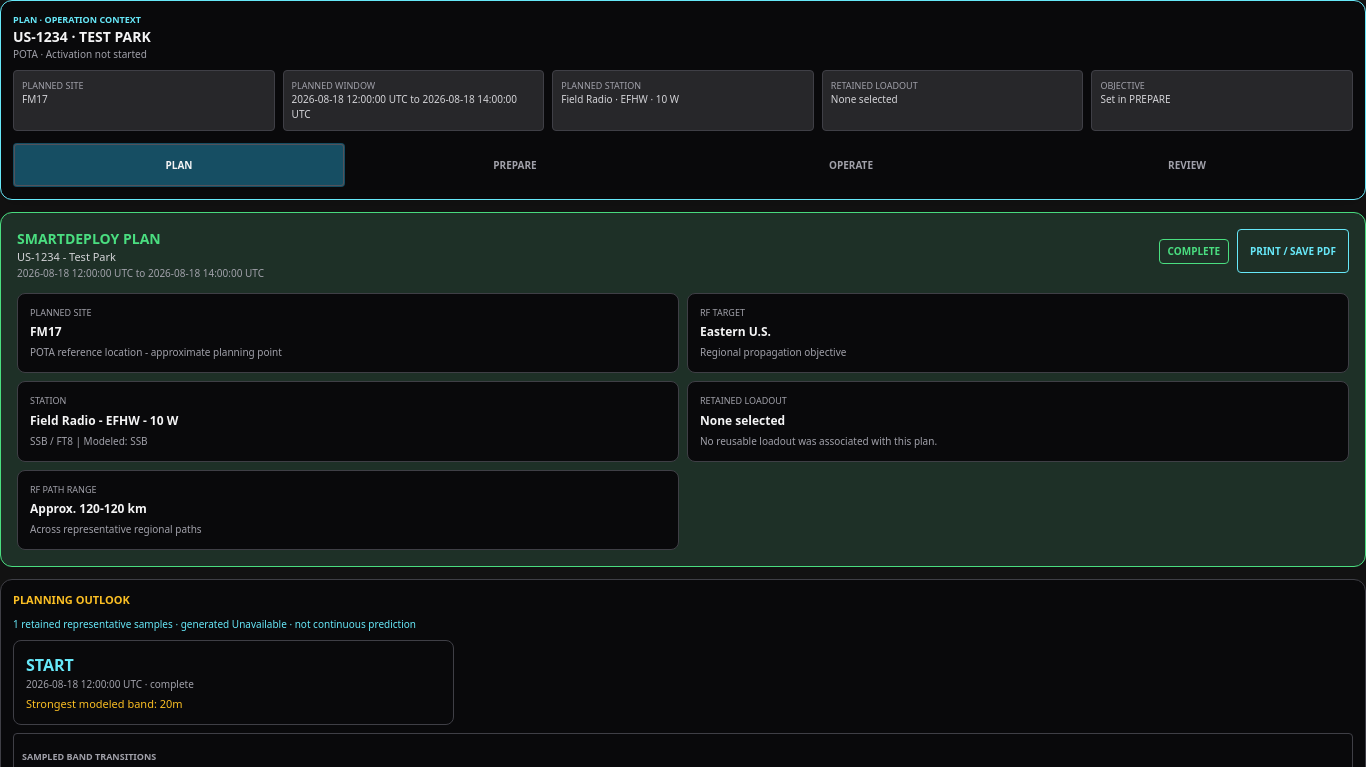
Scenario: SmartDeploy brief rendering › starts the Activation before navigating from PREPARE to OPERATE
Step 1. Click the button "prepare" → [515, 165], box x1=349 y1=143 x2=681 y2=187
(page scrolled)
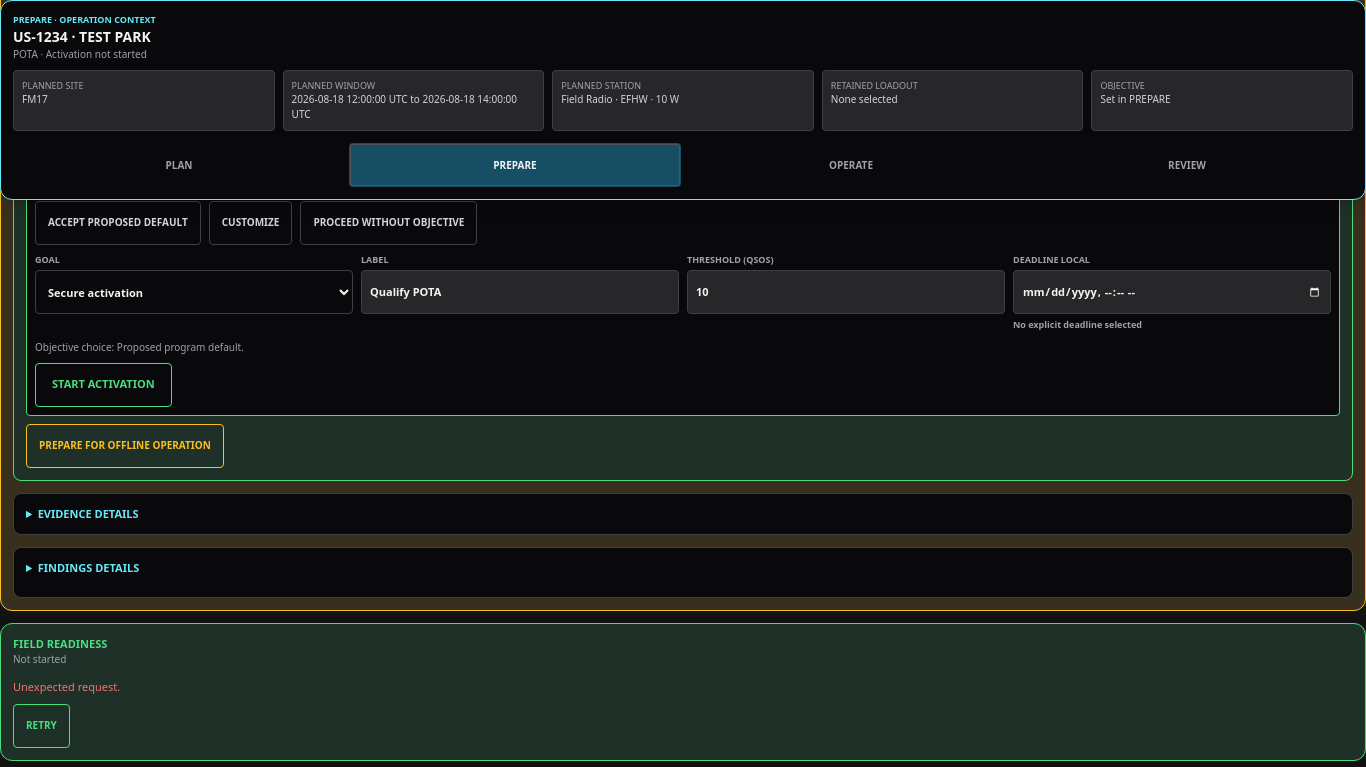
Check: the button "START ACTIVATION" is shown
Step 2. Click the button "START ACTIVATION" → [103, 384], box x1=35 y1=362 x2=172 y2=406
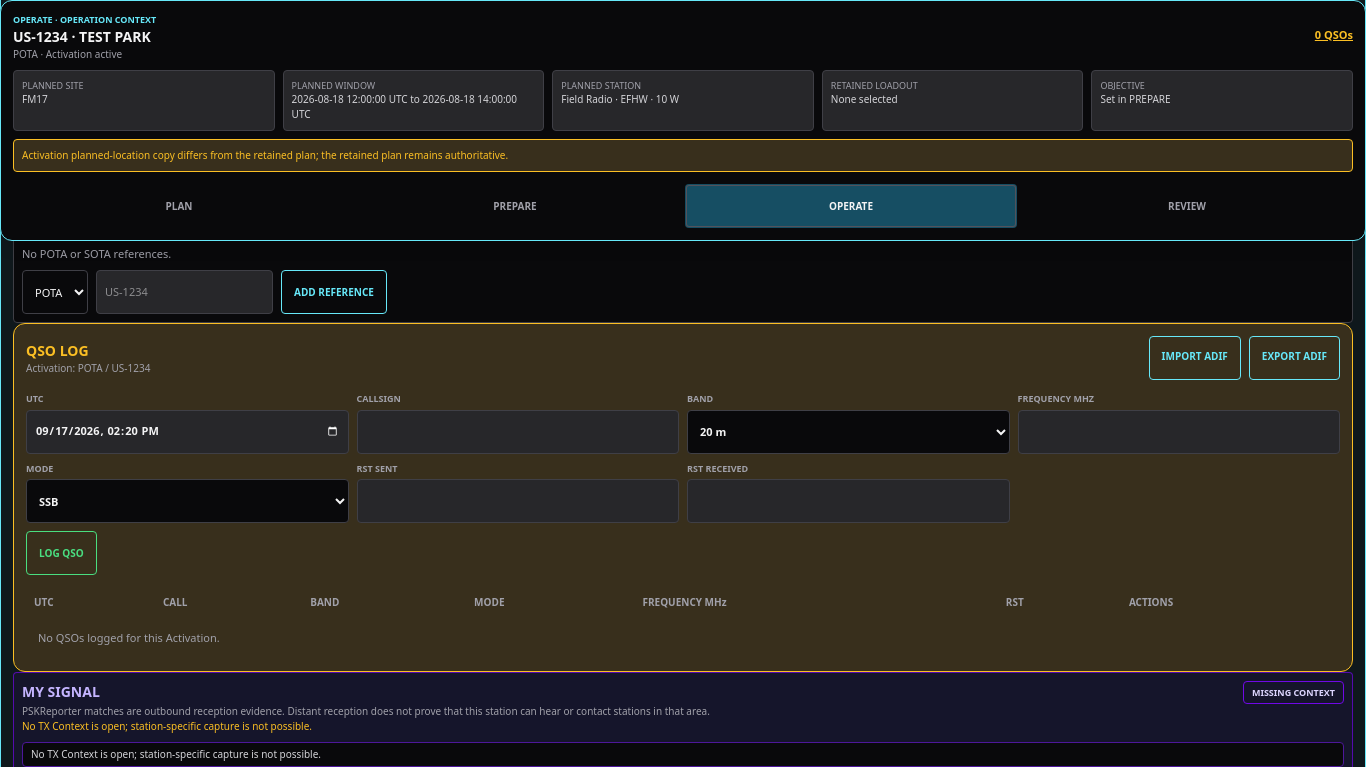
Check: the text "ACTIVE · Started 2026-08-18 12:00:00 UTC" is shown, box x1=13 y1=78 x2=207 y2=92
Check: the button "START ACTIVATION" is gone
